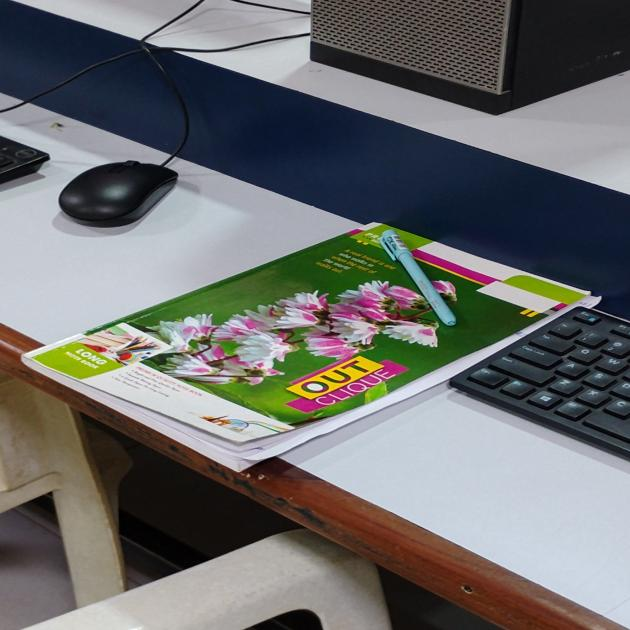cpu: (307, 1, 630, 124)
mouse: (68, 136, 196, 233)
notebook: (16, 196, 624, 505)
